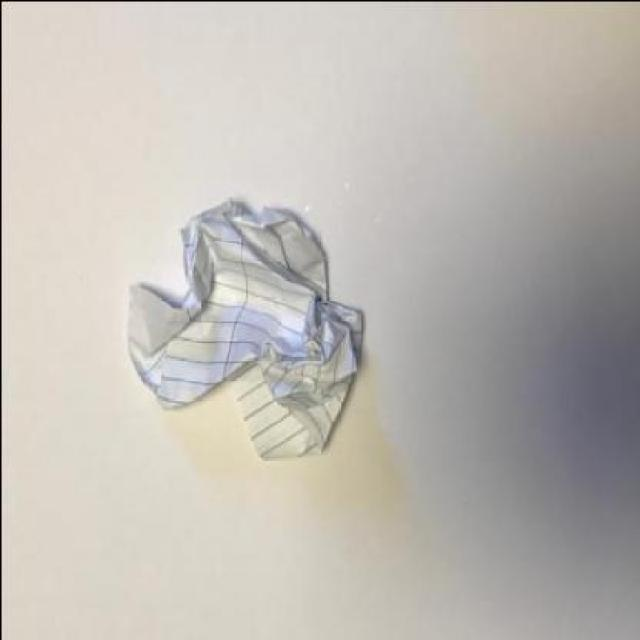PAPER: (121, 193, 362, 456)
